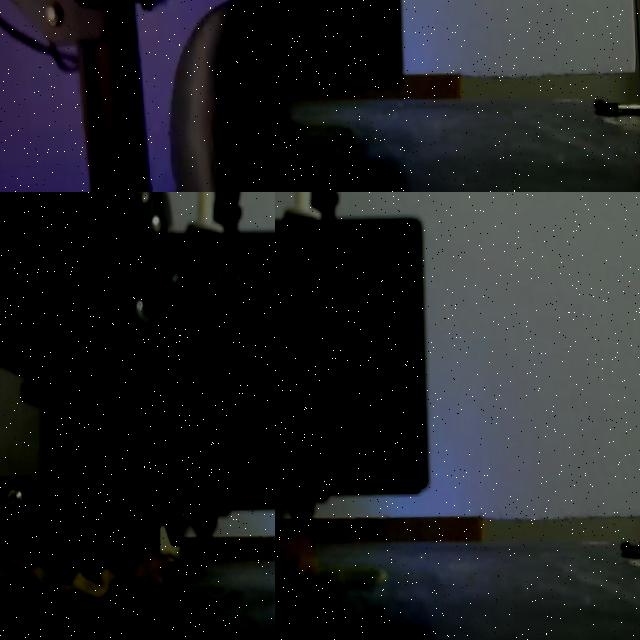spaghetti: (0, 547, 175, 599), (275, 519, 319, 584), (178, 540, 214, 573)
